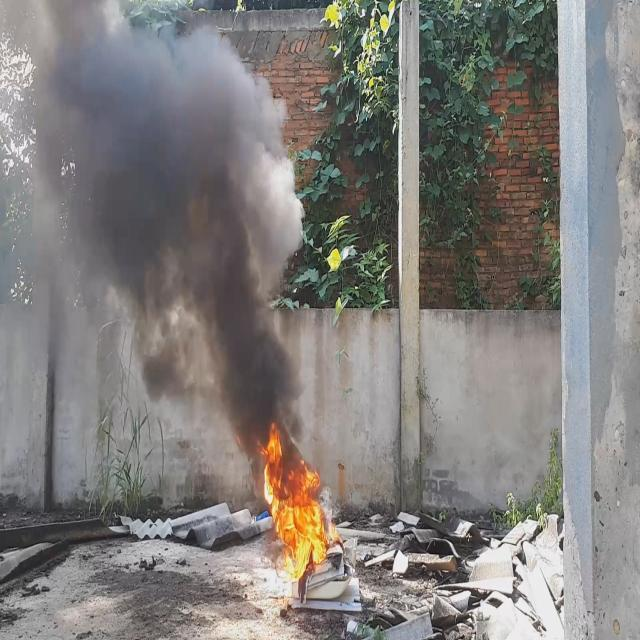Fire: (261, 424, 329, 576)
Smoke: (0, 0, 308, 499)
